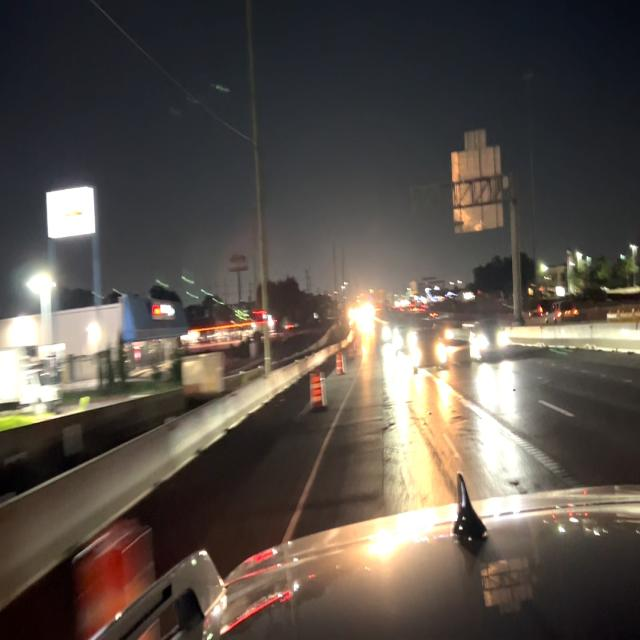back-of-sign: (450, 124, 506, 240)
